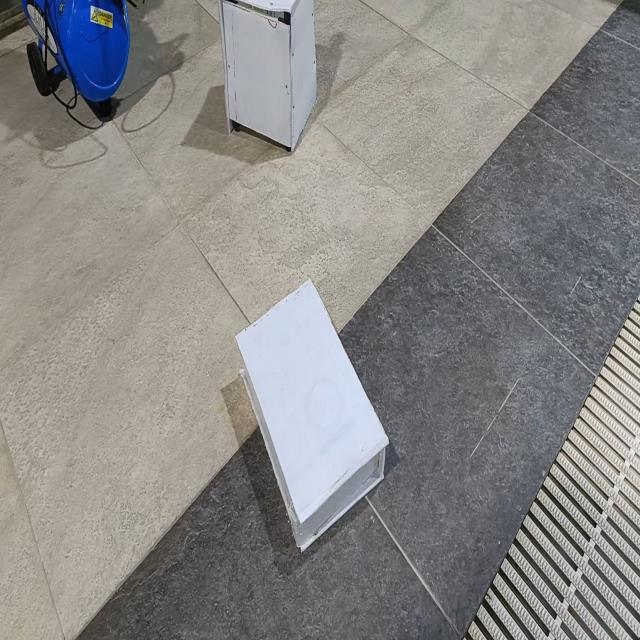Cube: (217, 0, 317, 153)
Cuboid: (233, 277, 389, 553)
